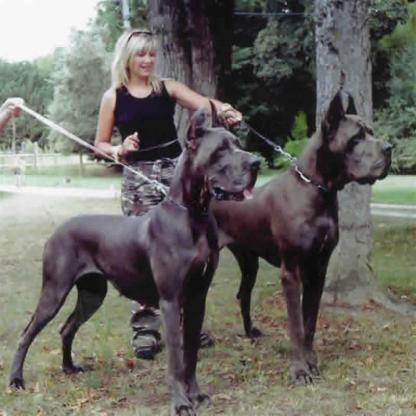Great_Dane: (7, 107, 262, 414), (208, 92, 395, 388)
